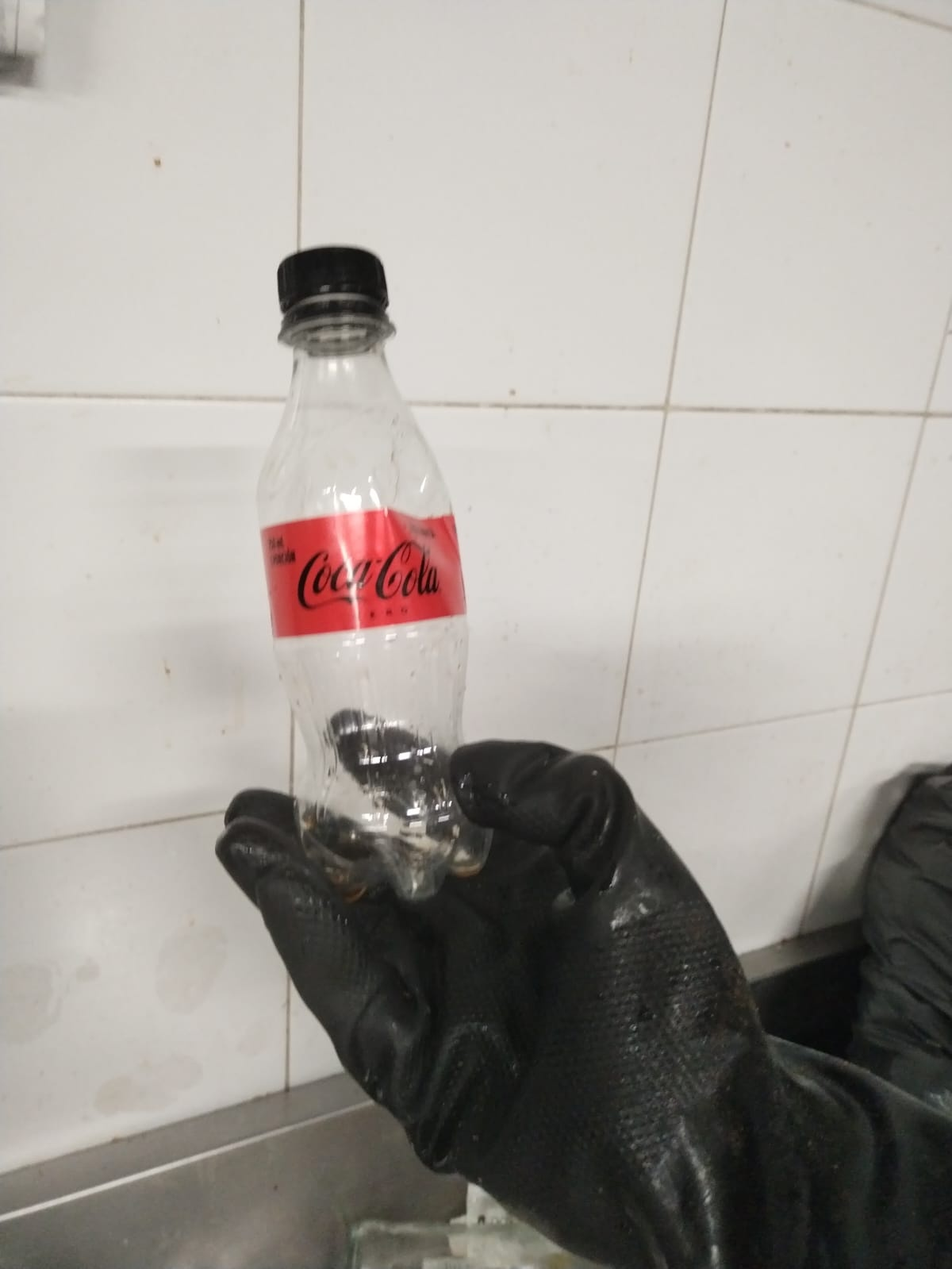Plastico: (257, 244, 485, 903)
